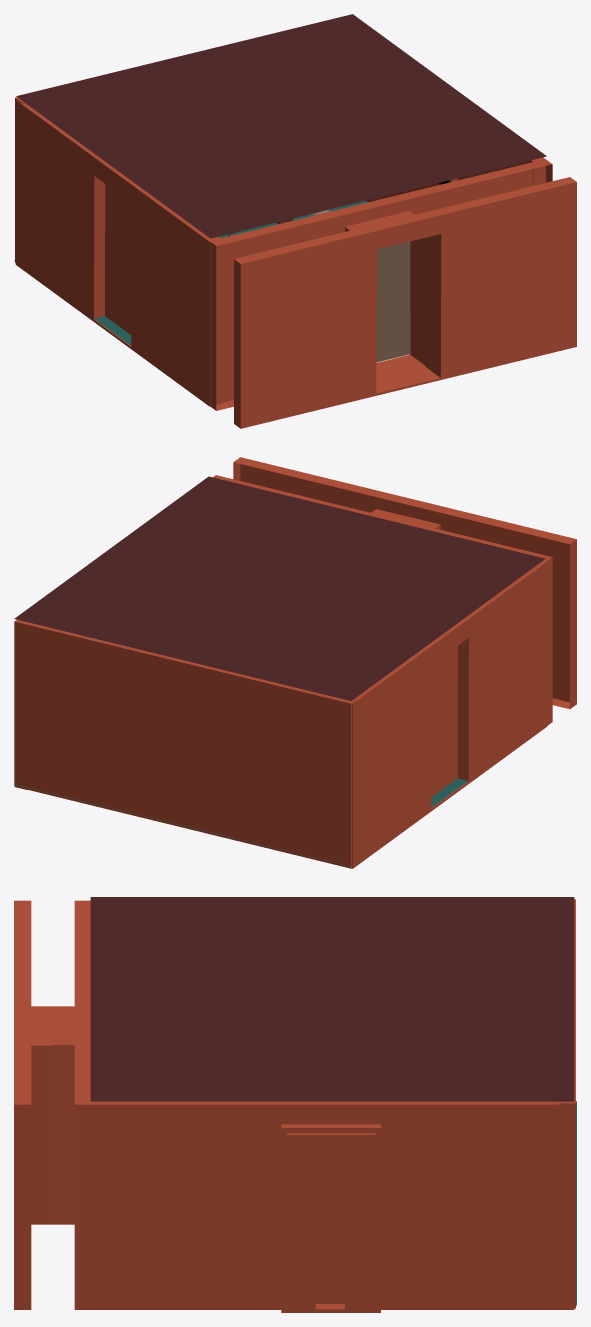
Rendered from bureau(6).fbx.
3 views of the same model, one above another, from view 1: azimuth 30°, elevation 25°; view 2: azimuth 150°, elevation 25°; view 3: azimuth 270°, elevation 25° (orthographic). The views are drawn at different scales.
Parts seen in each view (by area): view 1: SOL.001, mur porte.001, mur gauche, mur porte, PORTE, SOL, mur droite; view 2: SOL.001, mur face, mur gauche, mur porte.001, mur porte, SOL; view 3: SOL.001, mur droite, Mur sortant, mur porte.001, mur porte, mur face.
Boxes of the visible parts, x1,y1,x2,y2 form: SOL.001: (16, 14, 546, 238); mur porte.001: (234, 177, 576, 428); mur gauche: (15, 100, 221, 406); mur porte: (210, 159, 552, 410); PORTE: (376, 241, 410, 362); SOL: (14, 200, 367, 345); mur droite: (366, 157, 545, 202); SOL.001: (14, 476, 545, 700); mur face: (14, 619, 357, 868); mur gauche: (351, 560, 547, 868); mur porte.001: (233, 457, 576, 709); mur porte: (213, 475, 552, 725); SOL: (14, 778, 467, 866); SOL.001: (90, 897, 574, 1101); mur droite: (91, 1101, 574, 1309); Mur sortant: (281, 1124, 380, 1312); mur porte.001: (14, 900, 53, 1309); mur porte: (52, 900, 91, 1309); mur face: (558, 899, 575, 1308).
Bounding box in the file's own units: 1229 × 570 × 1393.
